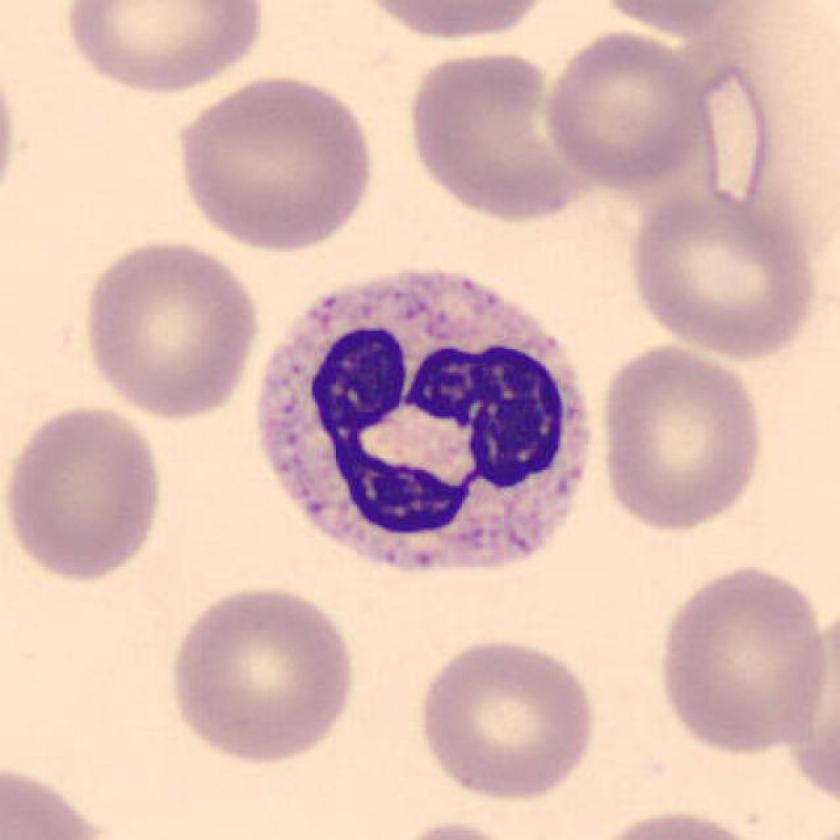neutrophil: (264, 274, 588, 572)
